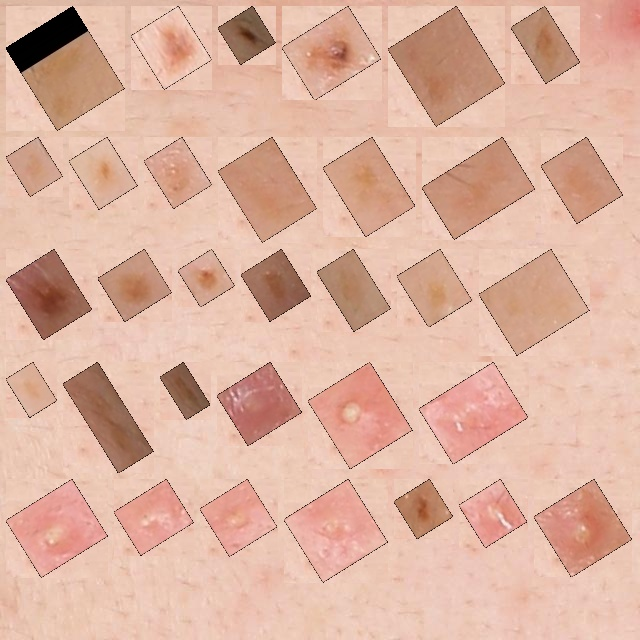melasma: (17, 17, 113, 119), (399, 17, 494, 115), (490, 260, 578, 344), (433, 148, 524, 228), (229, 148, 306, 231), (74, 373, 142, 462), (334, 148, 404, 225), (552, 148, 612, 212), (328, 260, 380, 320), (408, 260, 461, 316), (522, 17, 569, 72), (252, 260, 300, 310), (80, 148, 126, 198), (155, 148, 201, 197), (17, 148, 52, 185), (171, 373, 199, 408), (17, 373, 46, 406)
nevus: (293, 17, 370, 89), (17, 260, 81, 328), (142, 17, 201, 78), (109, 260, 161, 310), (405, 490, 442, 528), (229, 17, 265, 53), (189, 260, 224, 296)
pustule: (319, 373, 401, 458), (430, 373, 517, 453), (295, 490, 377, 571), (17, 490, 97, 566), (545, 490, 621, 566), (228, 373, 291, 434), (125, 490, 183, 544), (211, 490, 266, 545), (470, 490, 516, 536)
